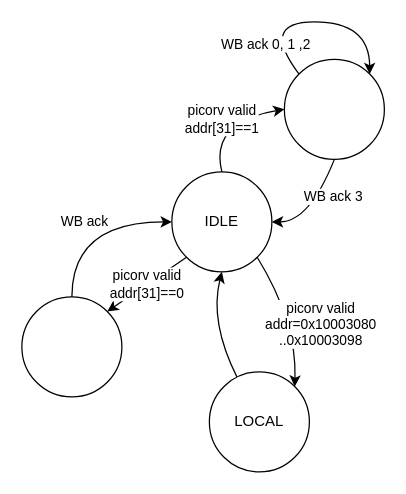
Image size: 406x494. Some labels were removed from this diagram. The centre of each missing label's shape, as x and y in pixels:
"BURST" goes at (333,108).
"SINGLE" goes at (71,346).
